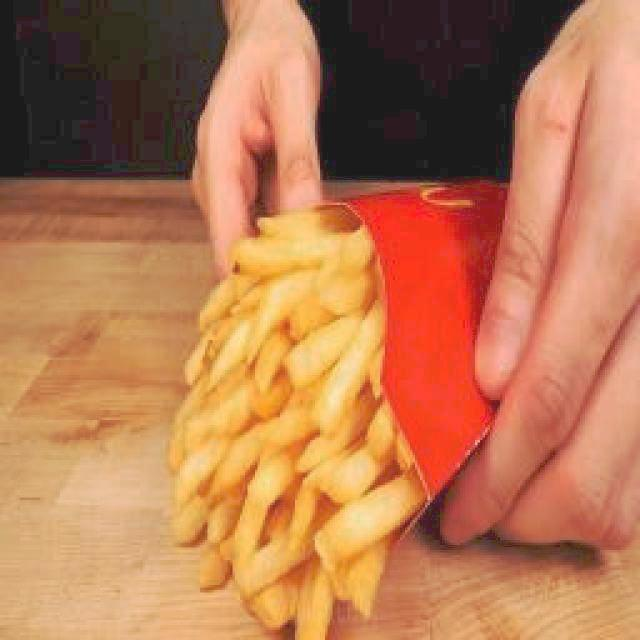french fries: (168, 206, 420, 640)
